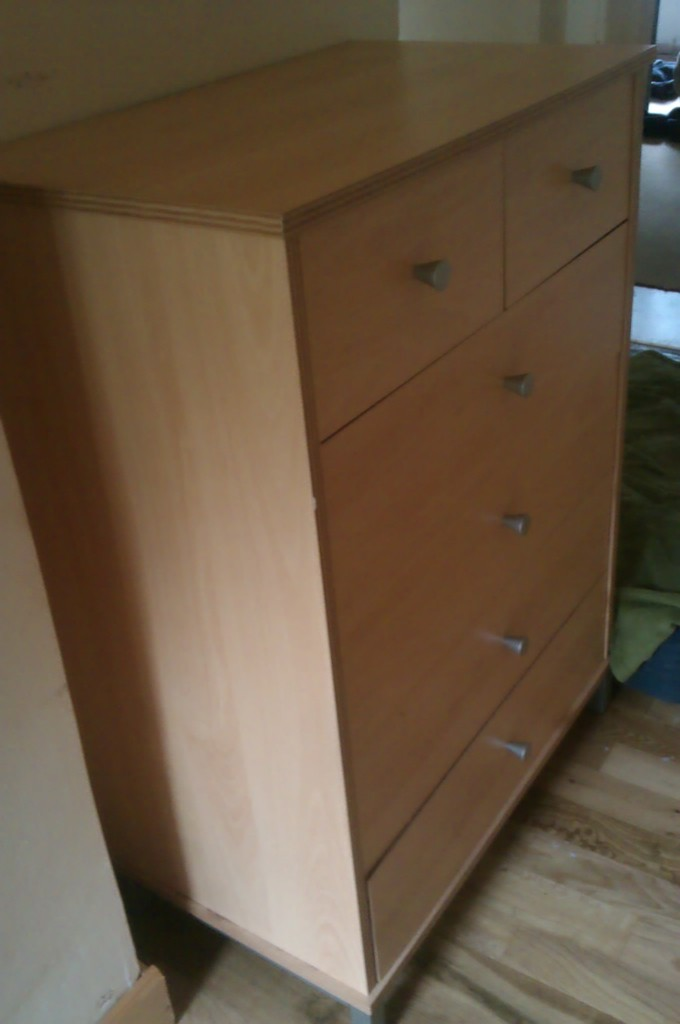cabinet door: (309, 334, 623, 451), (324, 468, 606, 570), (303, 195, 499, 337), (328, 582, 588, 684), (338, 710, 558, 829), (509, 124, 630, 245)
handle: (503, 491, 537, 558), (502, 356, 537, 421), (500, 722, 536, 782), (412, 250, 455, 297), (571, 146, 604, 206), (498, 609, 531, 666)
